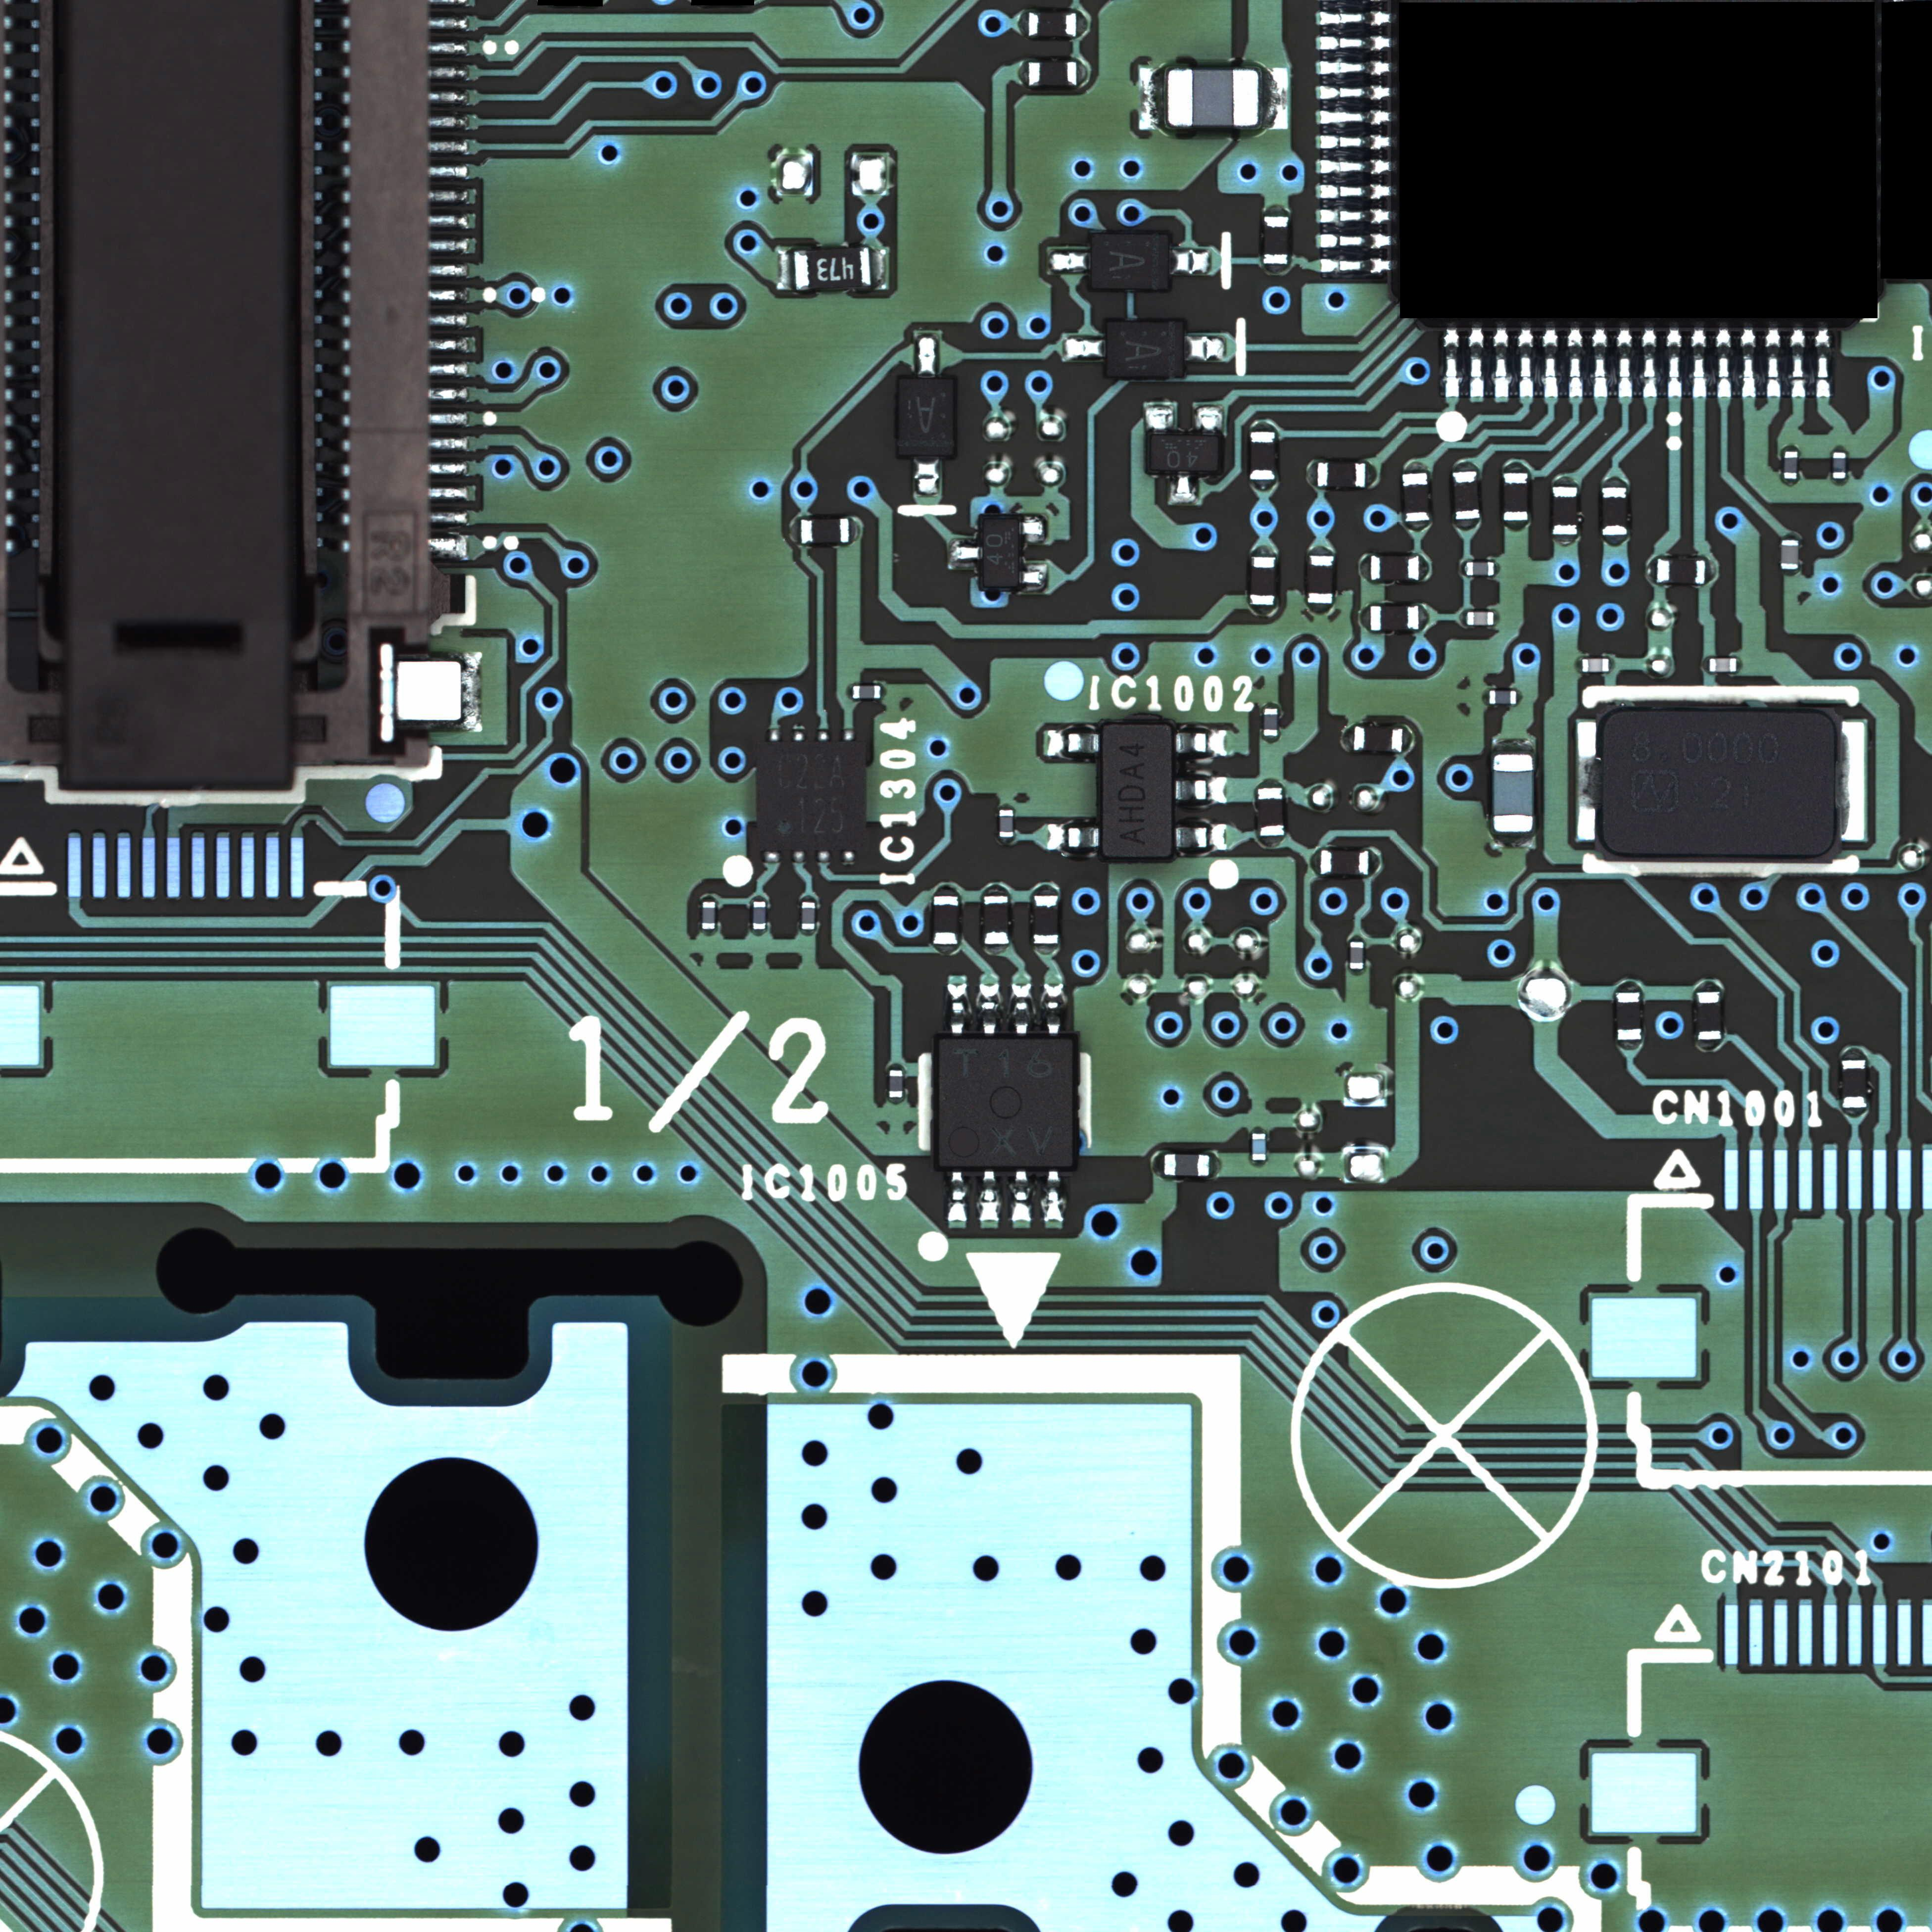Package: (1603, 711, 1835, 856), (938, 1035, 1074, 1169), (755, 743, 867, 849), (1100, 724, 1175, 858), (1168, 69, 1258, 127), (897, 379, 955, 456), (1106, 322, 1184, 377), (1092, 234, 1169, 288), (793, 246, 872, 290), (1493, 754, 1534, 832), (984, 517, 1019, 587), (1150, 435, 1219, 471), (1401, 472, 1430, 522), (1453, 471, 1481, 520), (1249, 557, 1277, 605), (1033, 895, 1060, 945), (1258, 787, 1284, 837), (1601, 487, 1628, 536), (932, 895, 959, 945), (984, 895, 1010, 945), (1353, 725, 1403, 752), (1369, 605, 1419, 632), (1320, 849, 1369, 876), (1316, 462, 1366, 488), (1658, 557, 1707, 584), (1307, 556, 1334, 603), (1615, 993, 1642, 1040), (1842, 1060, 1868, 1108), (1249, 432, 1276, 479), (1552, 487, 1578, 534), (1371, 554, 1419, 580), (1502, 472, 1529, 520), (1263, 216, 1288, 265), (1697, 993, 1721, 1040), (1028, 12, 1076, 37), (801, 518, 849, 543), (1028, 62, 1076, 87), (1164, 1154, 1210, 1177), (1780, 540, 1799, 570), (1000, 809, 1014, 839), (1350, 941, 1364, 970), (888, 1070, 902, 1099), (1263, 708, 1277, 736), (853, 685, 881, 699), (1783, 451, 1798, 479), (801, 902, 816, 931), (1253, 1132, 1267, 1161), (1467, 563, 1495, 577), (1709, 658, 1737, 672), (752, 901, 766, 929), (1582, 658, 1610, 672), (1490, 690, 1516, 704), (1833, 451, 1845, 479), (702, 902, 715, 929), (1467, 612, 1493, 625)
Solder: (1836, 720, 1865, 840), (1576, 722, 1603, 842), (1047, 817, 1100, 862), (1175, 768, 1228, 812), (1175, 722, 1228, 766), (1175, 817, 1228, 858), (1044, 725, 1100, 761), (1260, 67, 1288, 129), (1139, 67, 1166, 131), (943, 984, 975, 1033), (977, 1169, 1005, 1223), (975, 980, 1003, 1033), (1008, 1169, 1037, 1223), (1039, 1169, 1067, 1223), (943, 1169, 971, 1223), (1007, 982, 1035, 1033), (1040, 982, 1069, 1033), (913, 333, 941, 379), (1442, 327, 1460, 398), (1690, 327, 1707, 398), (911, 456, 941, 497), (1568, 329, 1585, 398), (1143, 402, 1178, 435), (947, 538, 984, 570), (1168, 471, 1200, 506), (1320, 11, 1391, 27), (1320, 234, 1391, 249), (1468, 327, 1484, 398), (1493, 327, 1509, 398), (1518, 327, 1534, 398), (1592, 327, 1608, 398), (1741, 329, 1757, 400), (1766, 329, 1782, 400), (1790, 329, 1806, 400), (1320, 182, 1389, 198), (1322, 209, 1391, 225), (1543, 329, 1559, 398), (1619, 329, 1635, 398), (1640, 329, 1656, 398), (1667, 329, 1683, 398), (1716, 329, 1732, 398), (1062, 338, 1106, 363), (1169, 248, 1210, 274), (1184, 336, 1224, 363), (1320, 35, 1391, 50), (1320, 110, 1391, 124), (1320, 134, 1391, 149), (1320, 258, 1391, 272), (1320, 60, 1389, 74), (1320, 85, 1389, 99), (1320, 159, 1389, 173), (1815, 329, 1829, 398), (1192, 405, 1224, 435), (1047, 251, 1092, 271), (1019, 564, 1047, 593), (1488, 833, 1536, 849), (1019, 517, 1046, 543), (777, 249, 793, 290), (1493, 738, 1534, 754), (872, 249, 886, 290), (1031, 881, 1058, 895), (1077, 9, 1090, 39), (1366, 460, 1378, 488), (1403, 460, 1431, 472), (1341, 724, 1353, 752), (982, 883, 1010, 895), (1840, 1047, 1868, 1060), (1695, 1040, 1723, 1053), (1615, 980, 1644, 993), (1249, 543, 1277, 556), (1304, 605, 1336, 616), (1369, 849, 1382, 876), (1359, 554, 1371, 580), (1251, 479, 1277, 492), (849, 518, 862, 545), (1152, 1152, 1164, 1178), (1258, 837, 1284, 849), (1419, 605, 1431, 632), (1263, 203, 1290, 216), (1247, 605, 1277, 616), (1693, 980, 1723, 991), (1077, 58, 1088, 88), (980, 945, 1010, 955), (789, 518, 801, 543), (1306, 545, 1334, 556), (1706, 557, 1716, 586), (1017, 11, 1028, 39), (1309, 847, 1320, 876), (1403, 725, 1414, 752), (1552, 536, 1578, 547), (932, 885, 959, 895), (1403, 522, 1430, 533), (1210, 1152, 1221, 1178), (1645, 557, 1656, 584), (1601, 476, 1628, 487), (1502, 462, 1529, 472), (1502, 520, 1529, 531), (1453, 520, 1479, 531), (1306, 462, 1316, 488), (1249, 421, 1276, 432), (1017, 60, 1028, 87), (1842, 1108, 1868, 1118), (932, 945, 959, 955), (1033, 945, 1060, 955), (1258, 777, 1284, 787), (764, 729, 784, 743), (1617, 1040, 1642, 1051), (1603, 536, 1628, 547), (1359, 605, 1369, 630), (1421, 554, 1430, 582), (1261, 265, 1290, 274), (1552, 476, 1578, 485), (1454, 462, 1479, 471), (764, 851, 782, 863), (840, 729, 858, 741), (791, 851, 807, 863), (816, 851, 832, 863), (840, 851, 856, 863), (791, 731, 807, 743), (1780, 531, 1799, 540), (816, 731, 832, 741), (701, 929, 718, 938), (1573, 656, 1582, 674), (1458, 610, 1467, 628), (748, 931, 770, 938), (1247, 1161, 1269, 1168), (1346, 970, 1368, 977), (1780, 570, 1799, 577), (886, 1063, 906, 1070), (996, 839, 1016, 846), (1831, 479, 1849, 487), (1782, 479, 1799, 487), (750, 893, 768, 901), (1249, 1125, 1267, 1132), (1348, 934, 1366, 941), (1261, 738, 1279, 745), (1702, 656, 1709, 674), (1481, 688, 1488, 706), (1460, 559, 1467, 577), (1831, 444, 1847, 451), (800, 931, 816, 938), (888, 1099, 904, 1106), (1495, 561, 1502, 577), (998, 801, 1014, 809), (1783, 444, 1798, 451), (881, 685, 888, 699), (1263, 701, 1277, 708), (1516, 690, 1523, 704), (846, 683, 851, 701), (1737, 656, 1743, 674), (1610, 656, 1615, 674), (701, 895, 717, 901), (1495, 610, 1500, 626), (801, 895, 816, 901)
